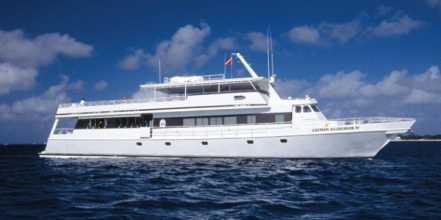yacht: (38, 60, 420, 163)
